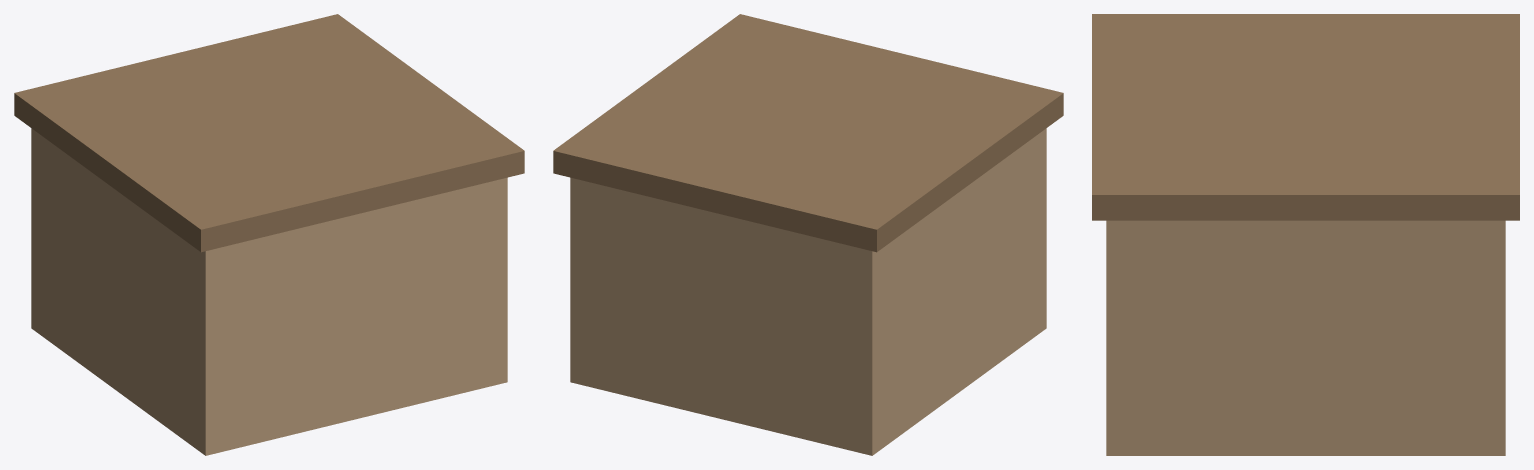
File: crate_wood.gltf
The picture shows the model from 3 angles, left to right: view 1: azimuth 30°, elevation 25°; view 2: azimuth 150°, elevation 25°; view 3: azimuth 270°, elevation 25°; orthographic projection. The views are drawn at different scales.
Size of the model in its own units: 0.9 by 0.62 by 0.9.
